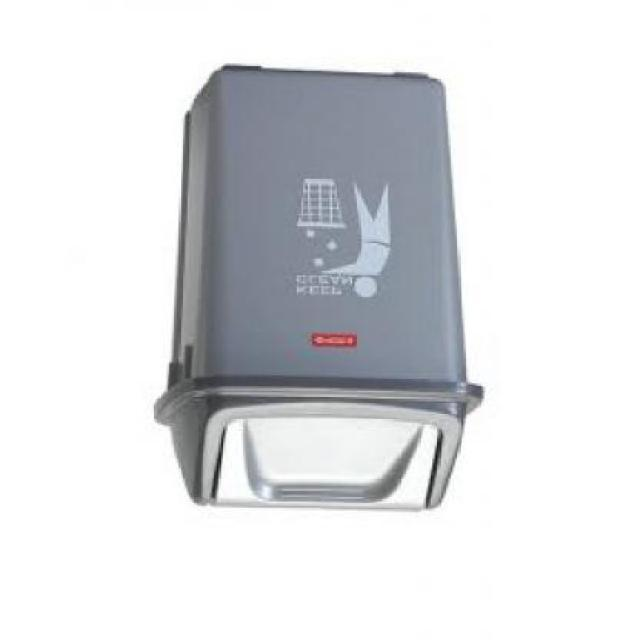garbage container: (146, 39, 506, 522)
